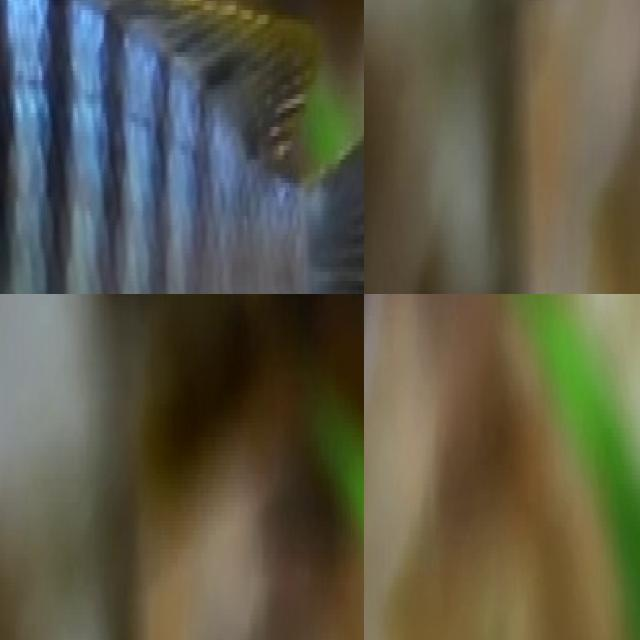fish: (0, 0, 364, 294), (117, 294, 364, 600)
